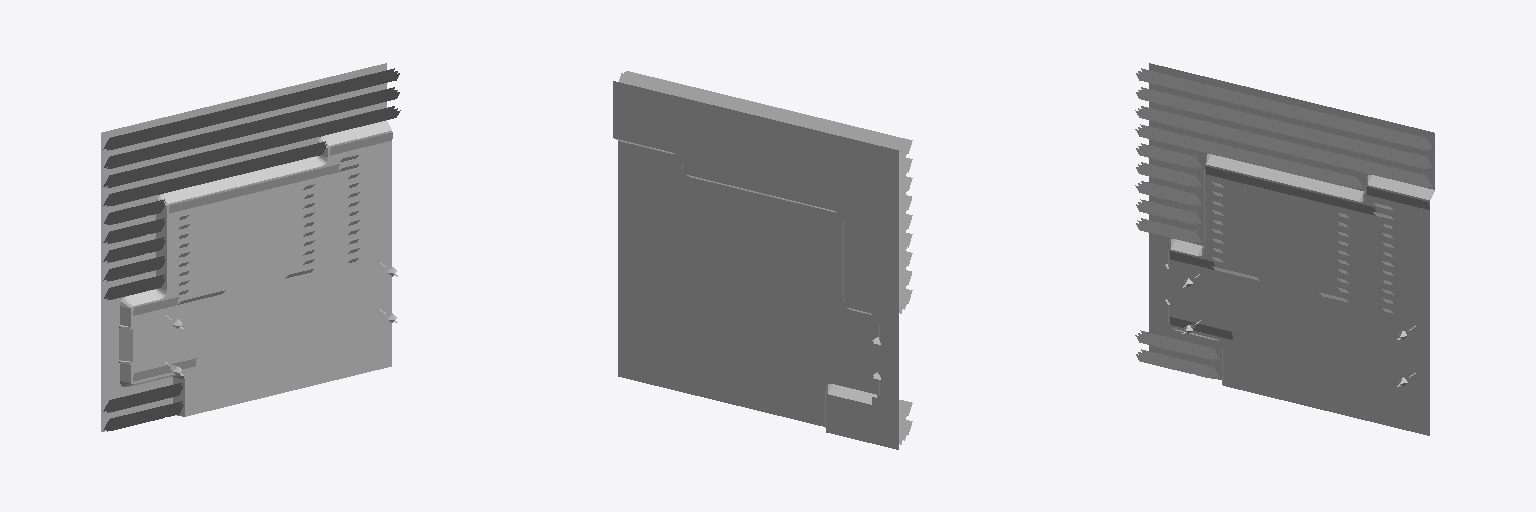
The model's file is Plat_full_03_17.obj.
3 views of the same model, side by side, from view 1: azimuth 30°, elevation 25°; view 2: azimuth 150°, elevation 25°; view 3: azimuth 330°, elevation 25° (orthographic).
Visible parts, largest first — view 1: map; view 2: map; view 3: map.
Part boxes in pixels (x1,y1,x2,y2): map: (101,63,400,431); map: (613,71,912,449); map: (1135,63,1434,435).
Bounding box in the file's own units: 32 × 32.12 × 4.69.